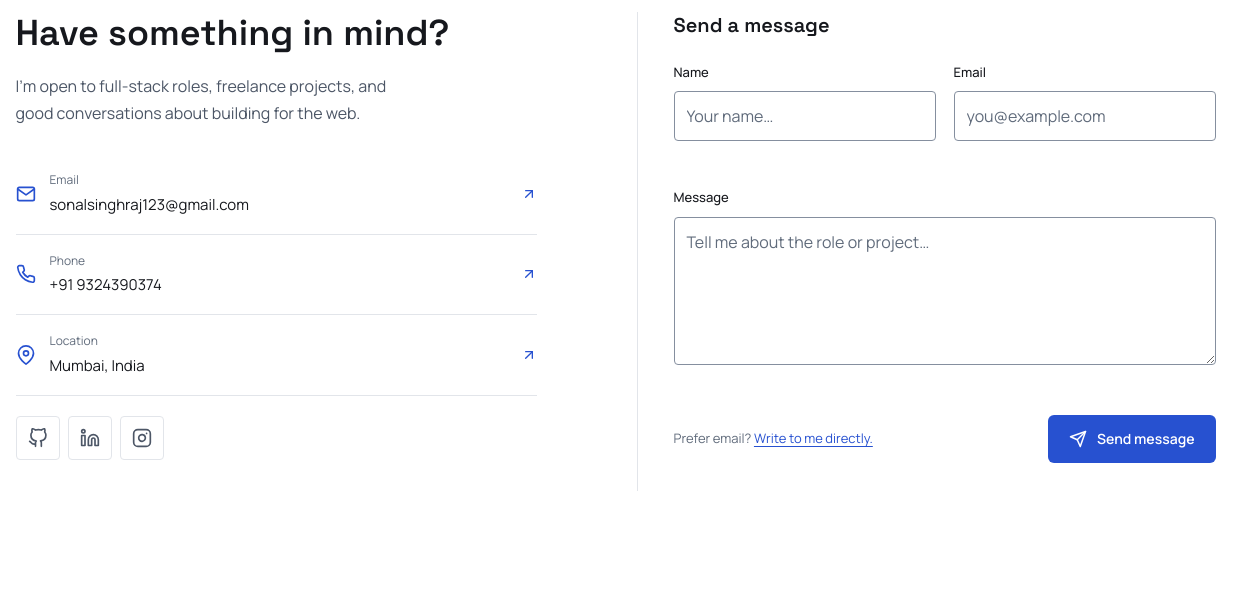
Test case: rate-limited contact requests explain the delay and preserve the draft
The width and height of the screenshot is (1233, 598).
Type "UI Test" into the field labelled "Name" at (804, 116), box [674,91,936,141]
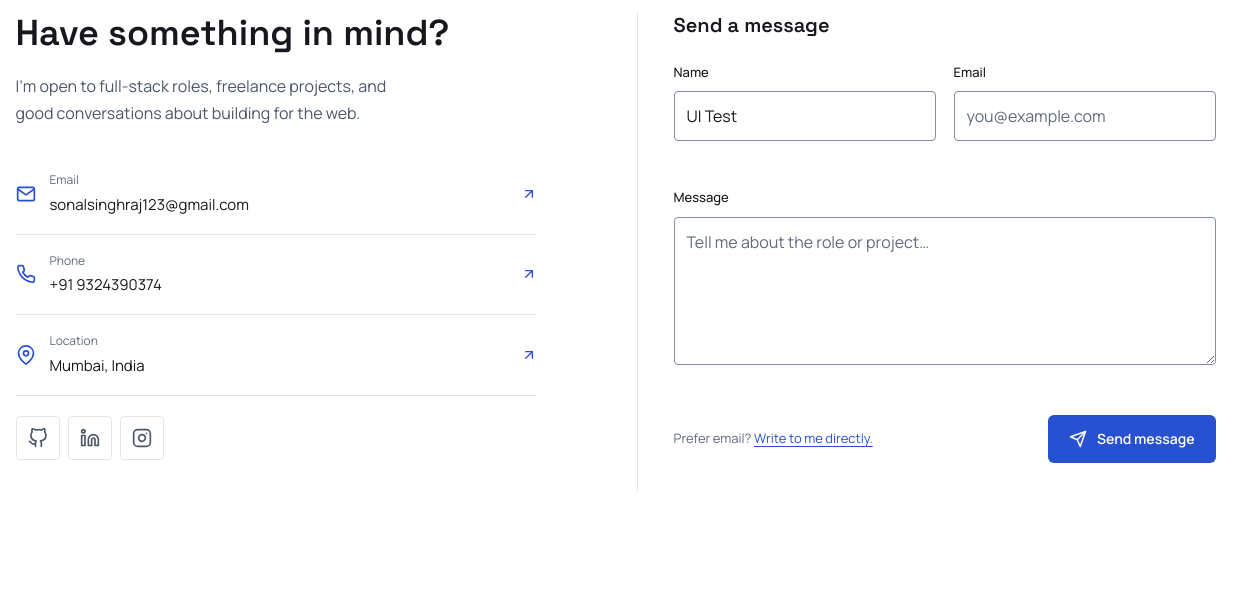
Type "ui-test@example.com" into the field labelled "Email" at (1084, 116), box [954,91,1216,141]
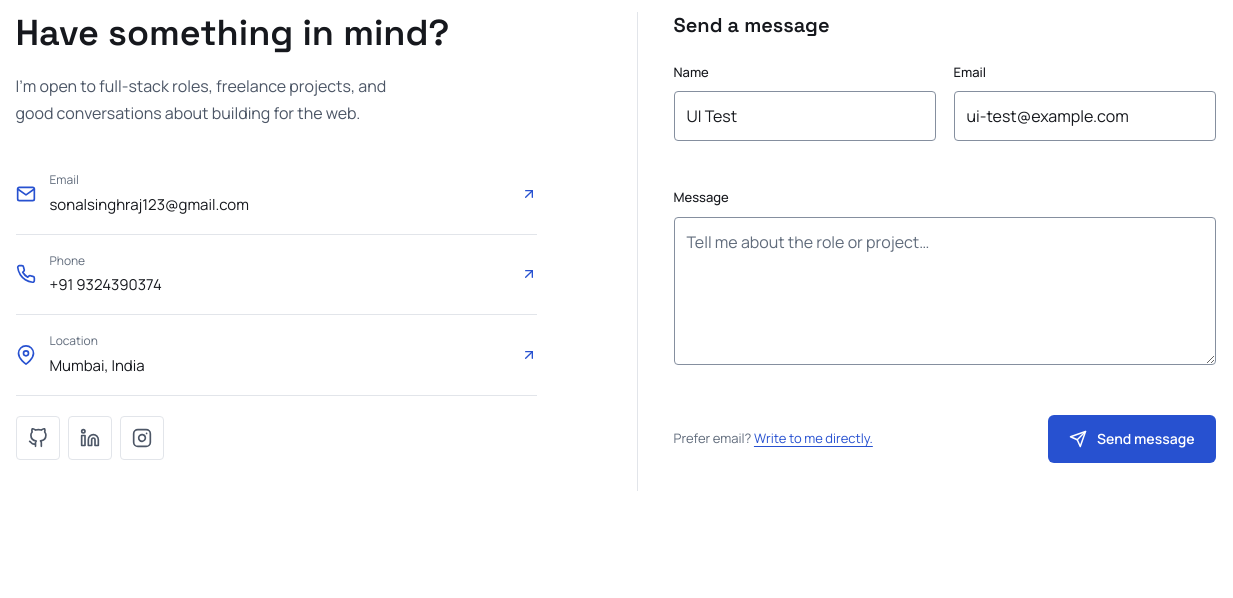
Type "Testing the local contact interface." into the text box labelled "Message" at (944, 291), box [674,217,1216,365]
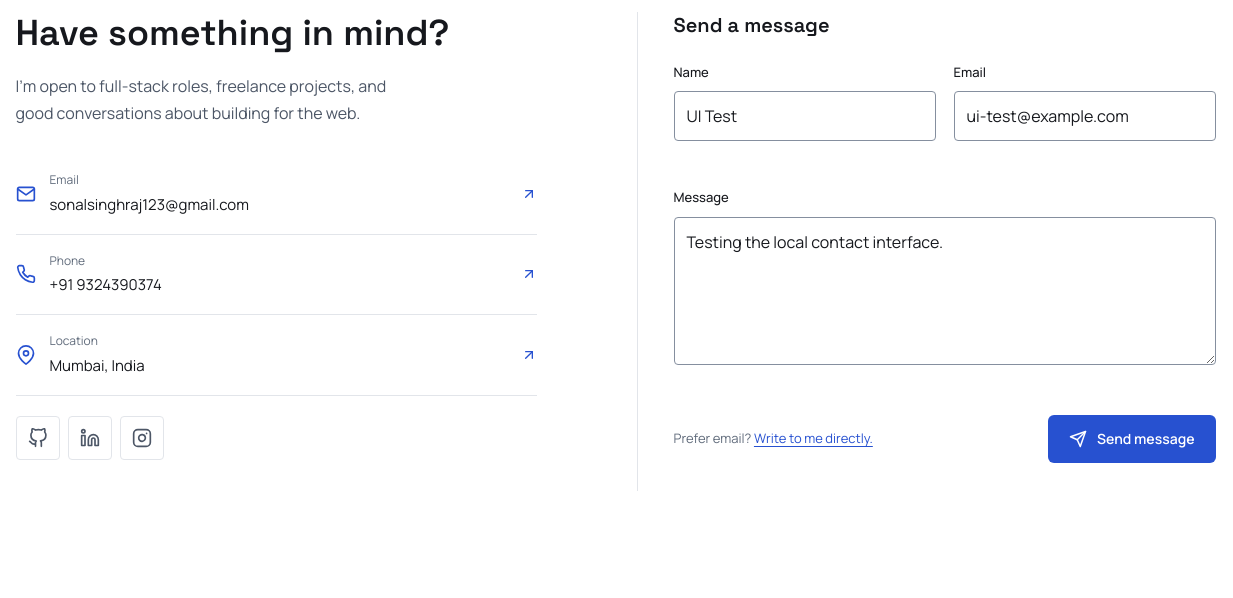
Click the button "Send message" at (1132, 439), box [1048,415,1216,463]
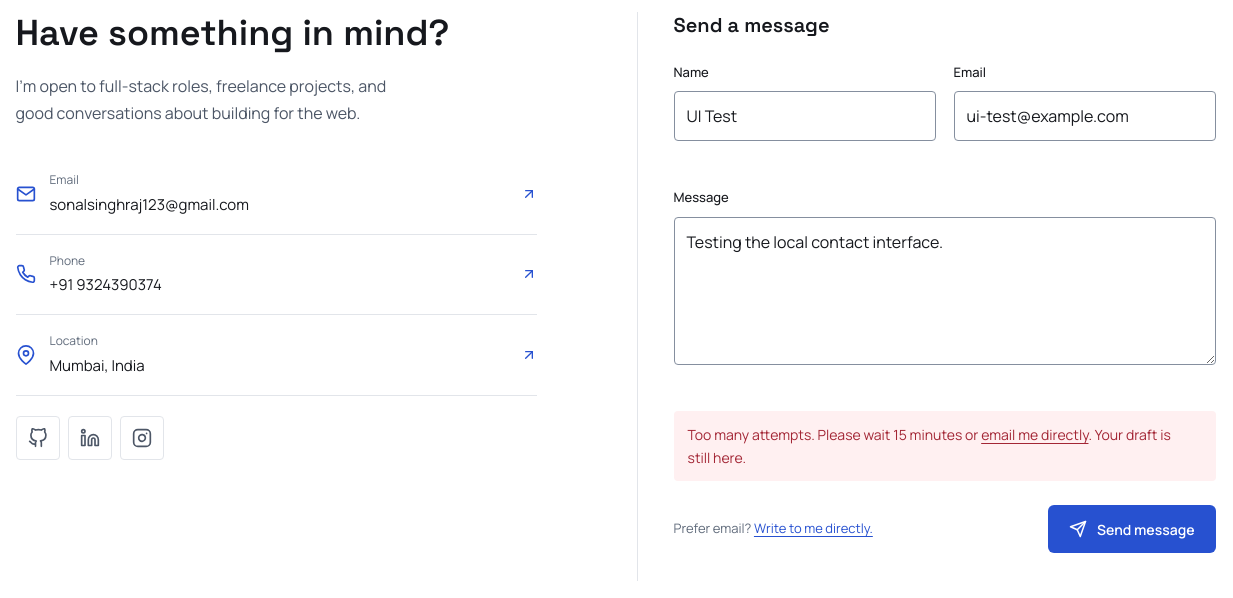
Check: the 1st message shows "Please wait 15 minutes", box [688,425,981,444]
